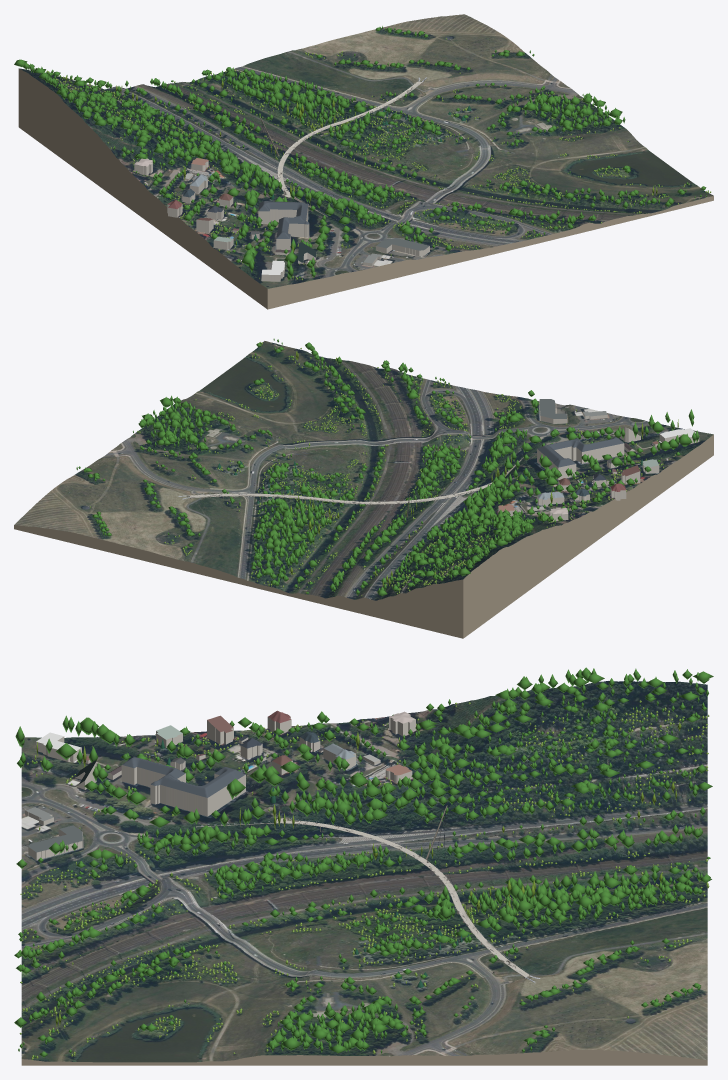
3 renders of one model, top to bottom at view 1: azimuth 30°, elevation 25°; view 2: azimuth 150°, elevation 25°; view 3: azimuth 270°, elevation 25°, orthographic. The views are drawn at different scales.
Parts seen in each view (by area): view 1: terrain, trees, base, buildings, s1; view 2: terrain, trees, base, buildings, s1; view 3: terrain, trees, buildings, base, s1.
Part boxes in pixels (bbox=[...]): terrain: bbox=[19, 14, 713, 288]; trees: bbox=[14, 26, 711, 280]; base: bbox=[18, 69, 713, 309]; buildings: bbox=[134, 158, 429, 281]; s1: bbox=[277, 81, 422, 216]; terrain: bbox=[14, 341, 713, 600]; trees: bbox=[76, 338, 699, 596]; base: bbox=[14, 434, 713, 638]; buildings: bbox=[498, 399, 699, 521]; s1: bbox=[190, 457, 523, 504]; terrain: bbox=[21, 681, 707, 1062]; trees: bbox=[14, 667, 713, 1060]; buildings: bbox=[25, 710, 415, 860]; base: bbox=[21, 1050, 707, 1065]; s1: bbox=[196, 817, 530, 977].
Size of the model in its own units: 0.1236 by 0.0185 by 0.1183.
11 materials, 1 textured.
